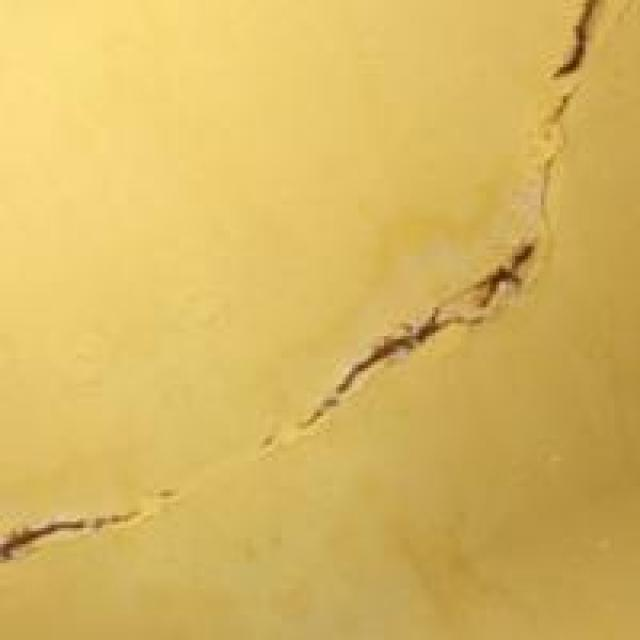crack: (0, 0, 595, 563)
